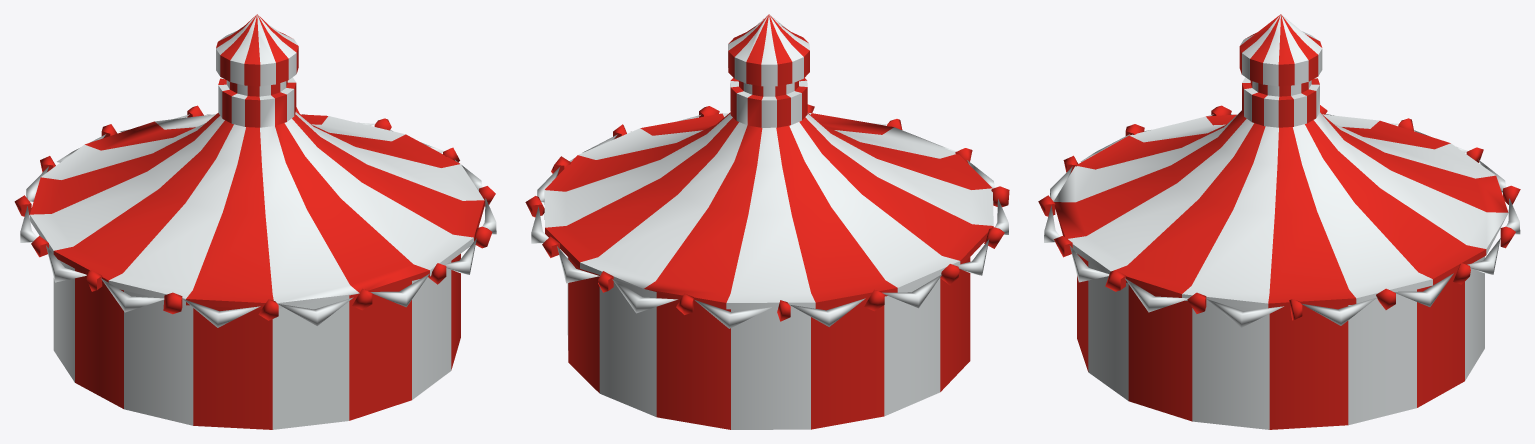
Rendered from Circustent.glb.
3 renders of one model, left to right at view 1: azimuth 30°, elevation 25°; view 2: azimuth 150°, elevation 25°; view 3: azimuth 270°, elevation 25°, orthographic.
Parts seen in each view (by area): view 1: Tent_islandMaterial_0.001; view 2: Tent_islandMaterial_0.001; view 3: Tent_islandMaterial_0.001.
Part boxes in pixels (x1=…): Tent_islandMaterial_0.001: x1=14, y1=14, x2=496, y2=429; Tent_islandMaterial_0.001: x1=525, y1=14, x2=1009, y2=429; Tent_islandMaterial_0.001: x1=1038, y1=14, x2=1520, y2=429.
Size of the model in its own units: 2.23 by 1.68 by 2.23.
Materials: 1 (1 with a texture image).
